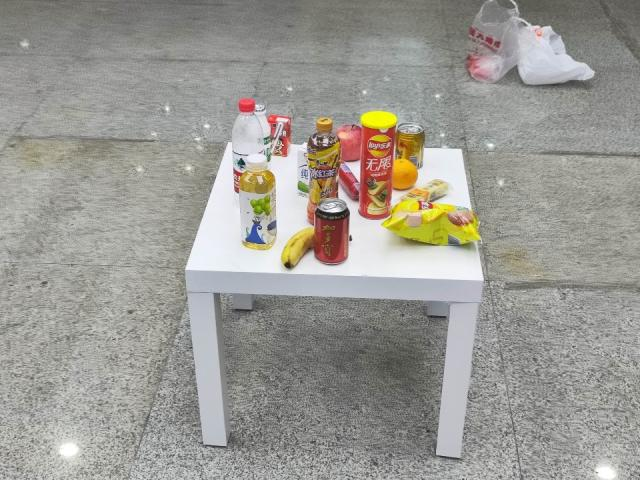Canned_drinks: (312, 199, 359, 270)
